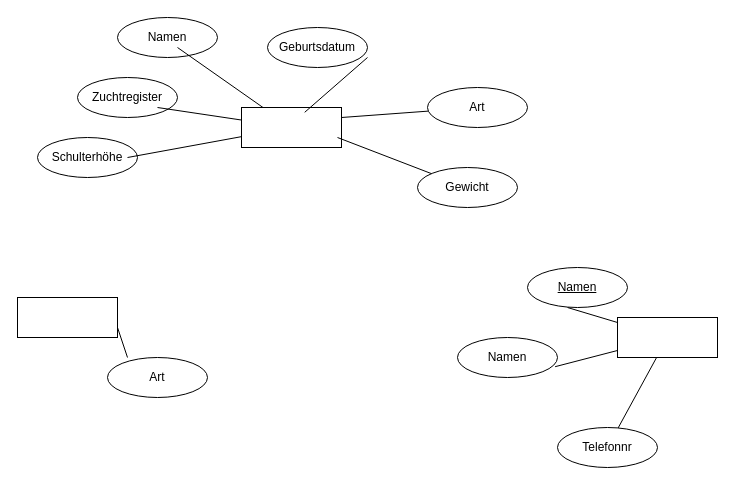
Image size: 735x485. Some labels were removed from this diagram. The centre of each missing label's shape, as x and y in pixels:
"Box" belongs at (x=67, y=317).
"Hersteller" belongs at (x=667, y=337).
"tier" belongs at (x=291, y=127).
